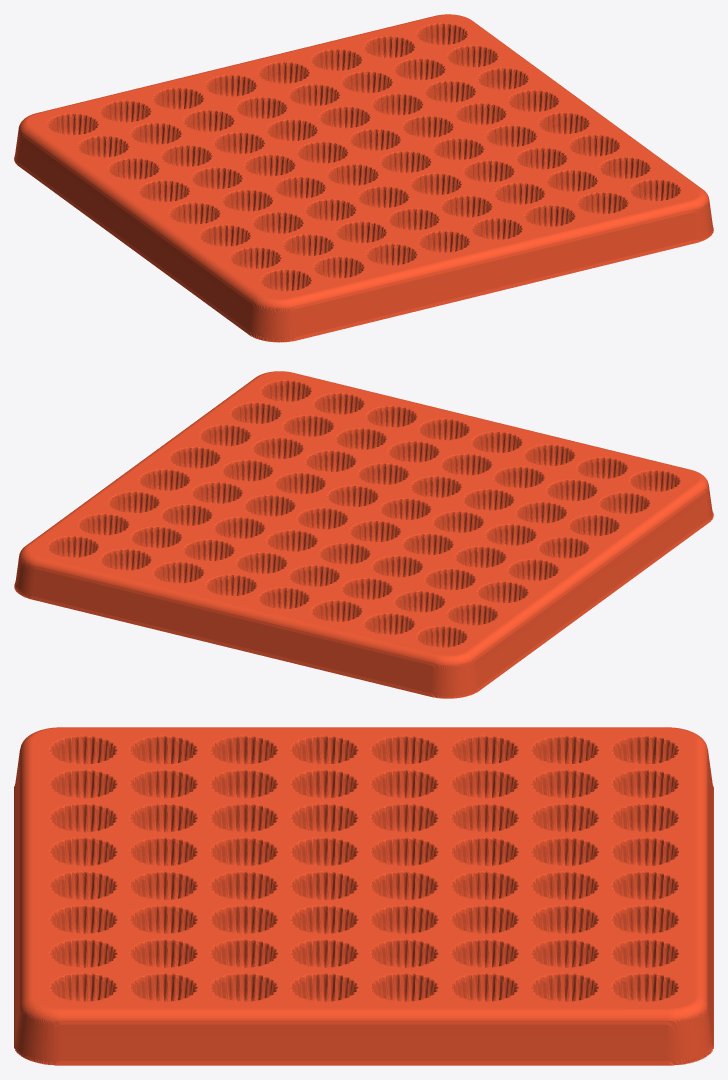
Rendered from mold.glb.
3 renders of one model, top to bottom at view 1: azimuth 30°, elevation 25°; view 2: azimuth 150°, elevation 25°; view 3: azimuth 270°, elevation 25°, orthographic. The views are drawn at different scales.
Visible parts, largest first — view 1: geometry_0; view 2: geometry_0; view 3: geometry_0.
Part boxes in pixels (left/top/right/bottom): geometry_0: left=14, top=14, right=713, bottom=342; geometry_0: left=14, top=371, right=713, bottom=698; geometry_0: left=14, top=727, right=713, bottom=1065.
Bounding box in the file's own units: 0.1355 × 0.0105 × 0.1355.
